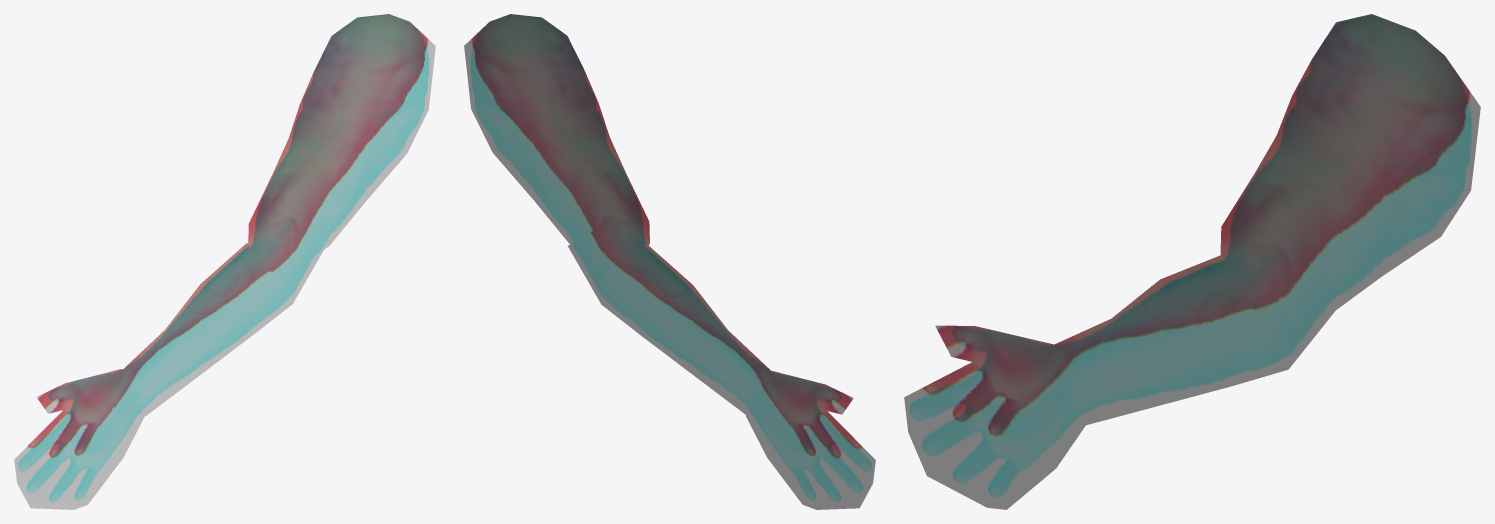
The model's file is brazo_01_02.FBX.
The picture shows the model from 3 angles, left to right: view 1: azimuth 30°, elevation 25°; view 2: azimuth 150°, elevation 25°; view 3: azimuth 330°, elevation 25°; orthographic projection. The views are drawn at different scales.
Parts seen in each view (by area): view 1: Brazo_01_01_hombro, Brazo_01_01_antebrazo, Brazo_01_01_mano; view 2: Brazo_01_01_hombro, Brazo_01_01_antebrazo, Brazo_01_01_mano; view 3: Brazo_01_01_hombro, Brazo_01_01_antebrazo, Brazo_01_01_mano.
Boxes of the visible parts, x1,y1,x2,y2 form: Brazo_01_01_hombro: [248, 14, 435, 274]; Brazo_01_01_antebrazo: [114, 243, 323, 415]; Brazo_01_01_mano: [14, 369, 144, 509]; Brazo_01_01_hombro: [464, 14, 649, 245]; Brazo_01_01_antebrazo: [568, 231, 769, 414]; Brazo_01_01_mano: [746, 370, 875, 509]; Brazo_01_01_hombro: [1220, 14, 1480, 323]; Brazo_01_01_antebrazo: [1040, 255, 1334, 425]; Brazo_01_01_mano: [904, 325, 1085, 509].
Size of the model in its own units: 95.84 by 93.29 by 1.21.
Materials: 1 (1 with a texture image).
